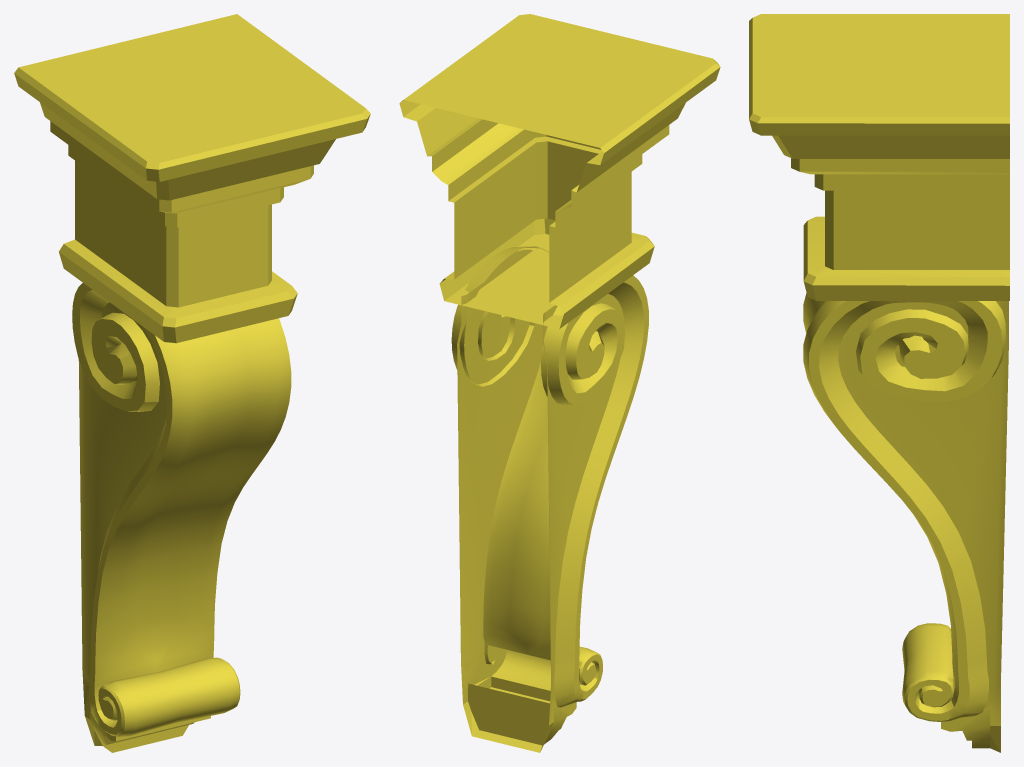
The model's file is Ornamento.fbx.
3 views of the same model, side by side, from view 1: azimuth 30°, elevation 25°; view 2: azimuth 150°, elevation 25°; view 3: azimuth 270°, elevation 25° (orthographic). The views are drawn at different scales.
Visible parts, largest first — view 1: Ornamento; view 2: Ornamento; view 3: Ornamento.
Part boxes in pixels (x1,y1,x2,y2): Ornamento: [14, 14, 370, 752]; Ornamento: [399, 14, 720, 752]; Ornamento: [749, 14, 1009, 752].
Size of the model in its own units: 25.72 by 74.87 by 26.45.
